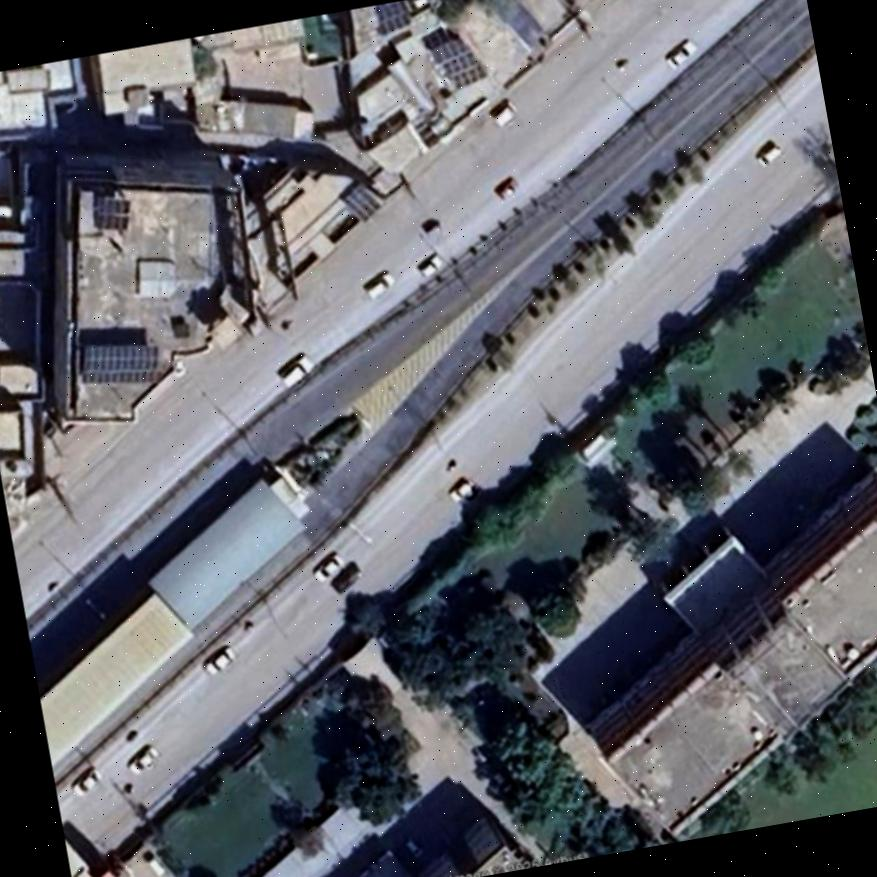Solarpanel: (430, 37, 488, 89), (79, 345, 158, 381), (373, 0, 411, 38), (344, 184, 383, 221), (96, 198, 130, 230)
